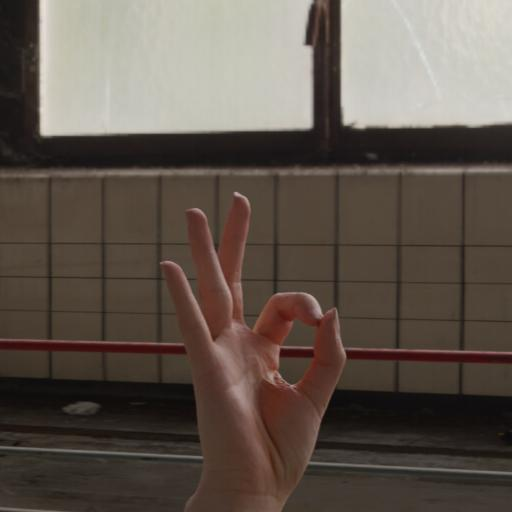F: (146, 189, 357, 512)
